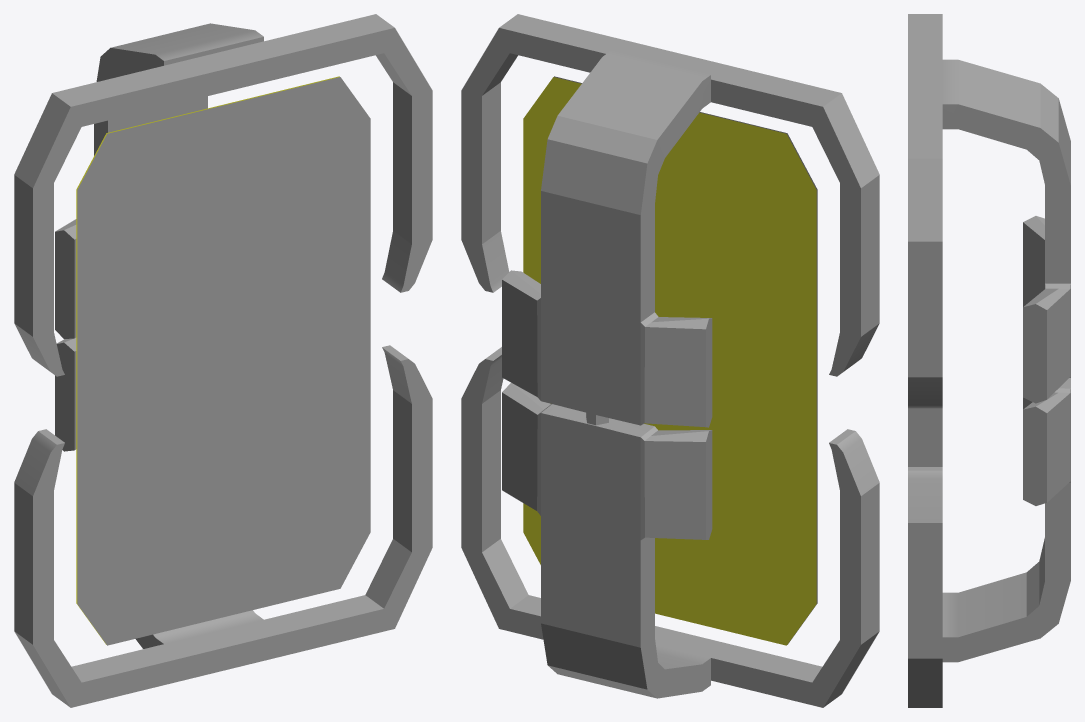
Rendered from Door_CodePad_Scene01_HSP.fbx.
The picture shows the model from 3 angles, left to right: view 1: azimuth 30°, elevation 25°; view 2: azimuth 150°, elevation 25°; view 3: azimuth 270°, elevation 25°; orthographic projection. The views are drawn at different scales.
Visible parts, largest first — view 1: CodePad_Full_Scene01_HSP; view 2: CodePad_Full_Scene01_HSP; view 3: CodePad_Full_Scene01_HSP.
Boxes of the visible parts, x1,y1,x2,y2 form: CodePad_Full_Scene01_HSP: (14, 14, 432, 707); CodePad_Full_Scene01_HSP: (461, 14, 879, 707); CodePad_Full_Scene01_HSP: (908, 14, 1070, 707).
Bounding box in the file's own units: 31.89 × 46.51 × 12.3.
